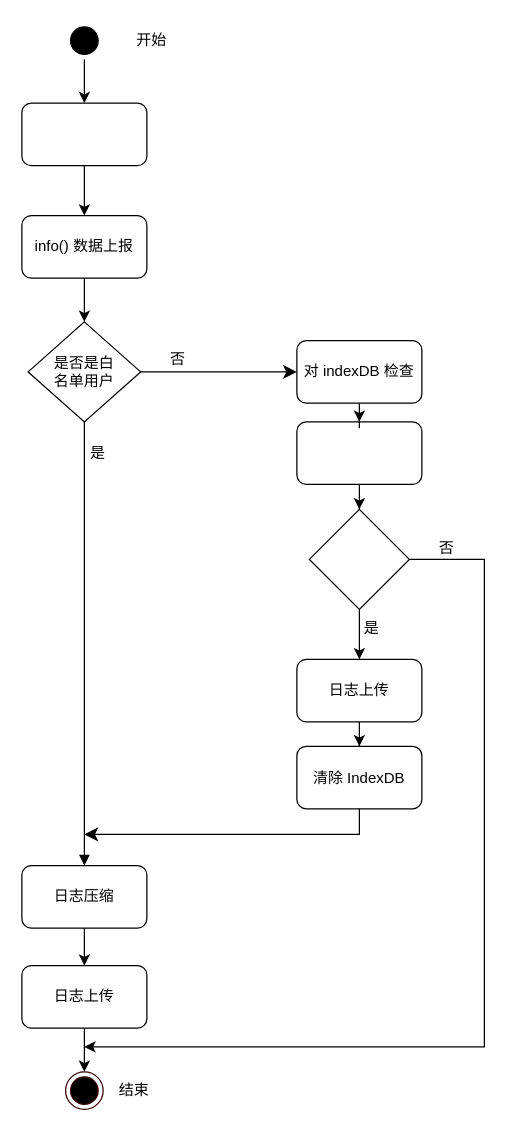
This 516x1131 diagram has some shape labels left out. Here are the shapes that lost their labels. From the top down, the box of each, then its label:
(21, 102, 147, 166): 用户产生日志
(296, 421, 422, 484): 存入 indexDB
(308, 508, 409, 609): 是否提取 离线日志
